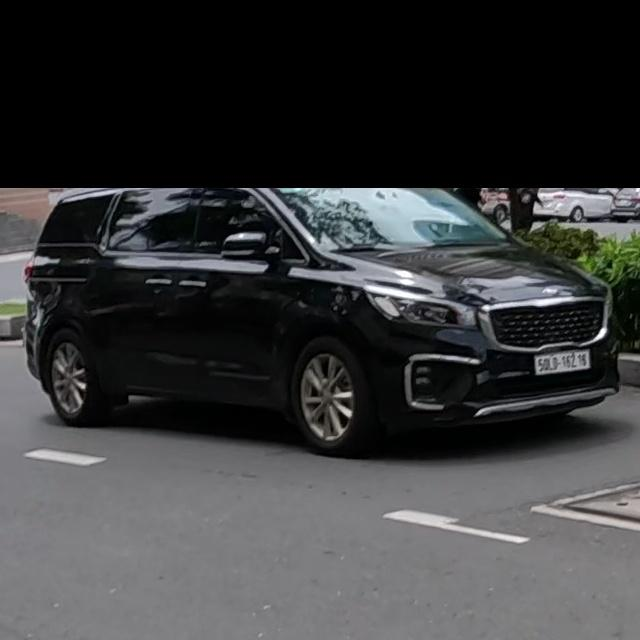license-plate: (534, 349, 591, 375)
